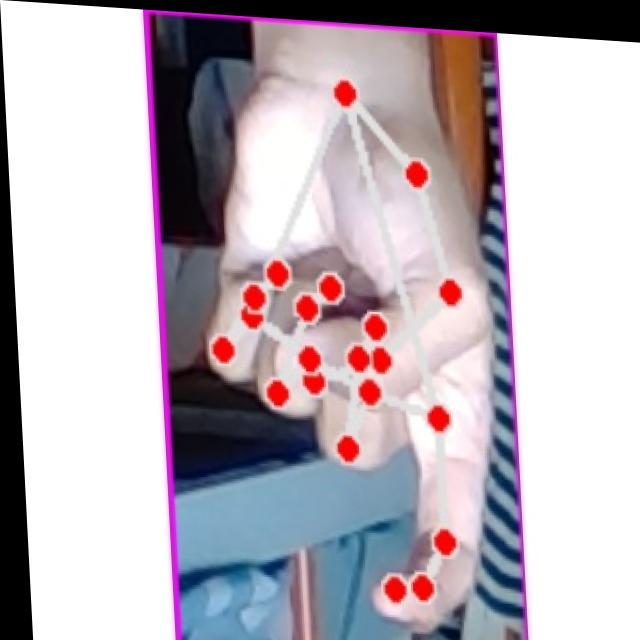X: (181, 53, 511, 635)
